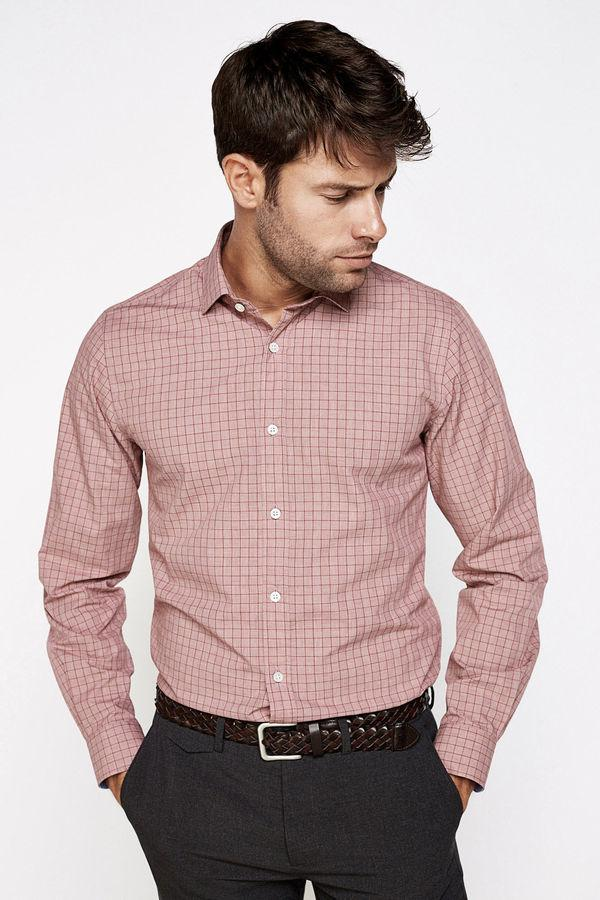teeshirt: (40, 270, 568, 752)
